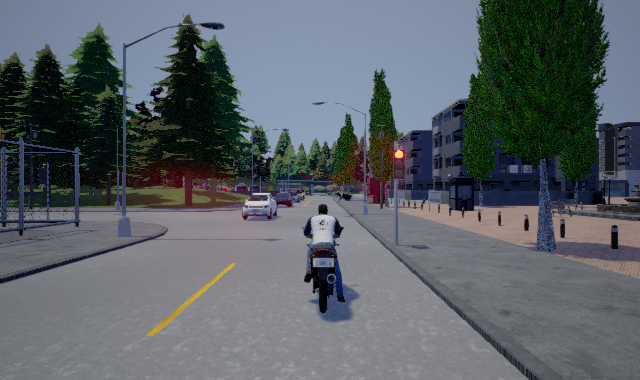traffic_light: (393, 144, 404, 185)
vehicle: (301, 202, 347, 315), (242, 190, 280, 221)
